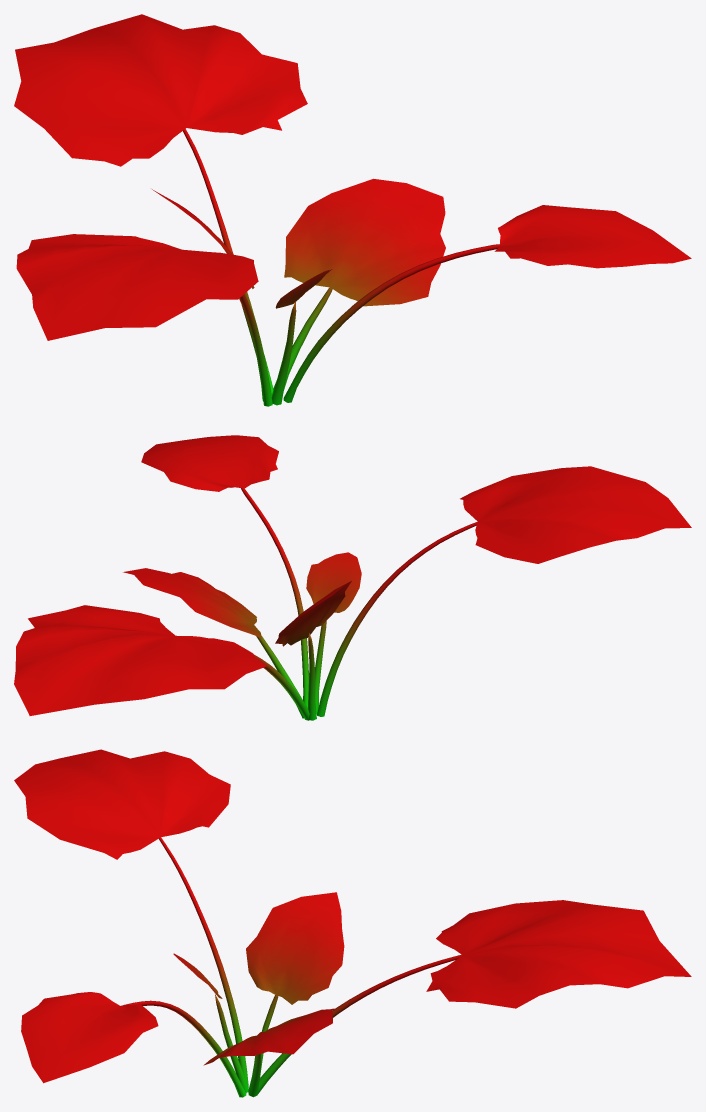
File: Coltsfoot_LOD0_Var2_xbtkdfvqx.fbx
The picture shows the model from 3 angles, top to bottom: view 1: azimuth 30°, elevation 25°; view 2: azimuth 150°, elevation 25°; view 3: azimuth 270°, elevation 25°; orthographic projection. The views are drawn at different scales.
Parts seen in each view (by area): view 1: _n4ij_Var2_LOD0; view 2: _n4ij_Var2_LOD0; view 3: _n4ij_Var2_LOD0.
Boxes of the visible parts, x1=… form: _n4ij_Var2_LOD0: x1=14, y1=14, x2=691, y2=406; _n4ij_Var2_LOD0: x1=14, y1=435, x2=691, y2=720; _n4ij_Var2_LOD0: x1=14, y1=749, x2=691, y2=1097.
Bounding box in the file's own units: 24.61 × 9.3 × 26.24.
